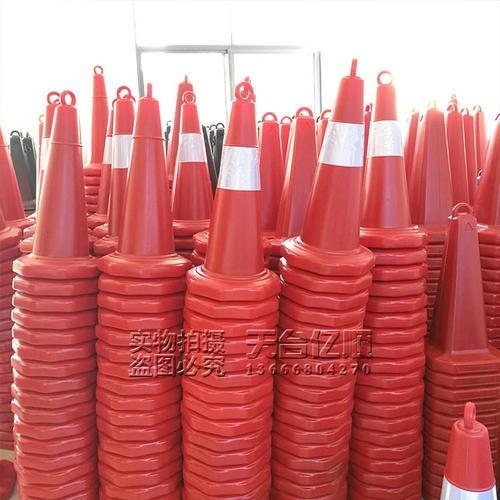cone_barrel: (196, 79, 275, 283), (295, 65, 367, 256), (16, 96, 93, 266), (108, 96, 176, 263), (428, 204, 495, 361), (359, 79, 416, 234), (169, 91, 213, 225), (272, 113, 317, 241), (434, 408, 497, 496), (103, 85, 133, 242), (85, 66, 110, 169)
